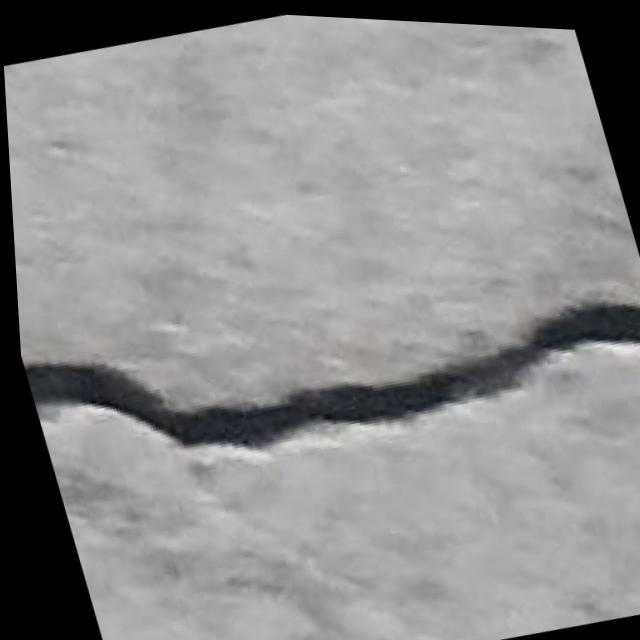Crack: (12, 208, 640, 525)
